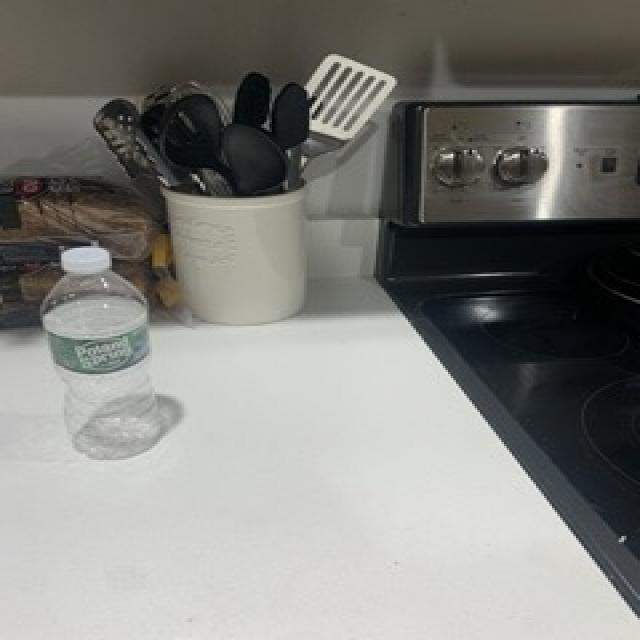water_bottle: (38, 243, 174, 462)
